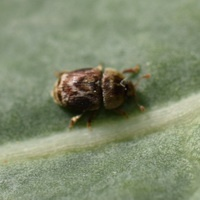insect: (52, 65, 150, 113)
